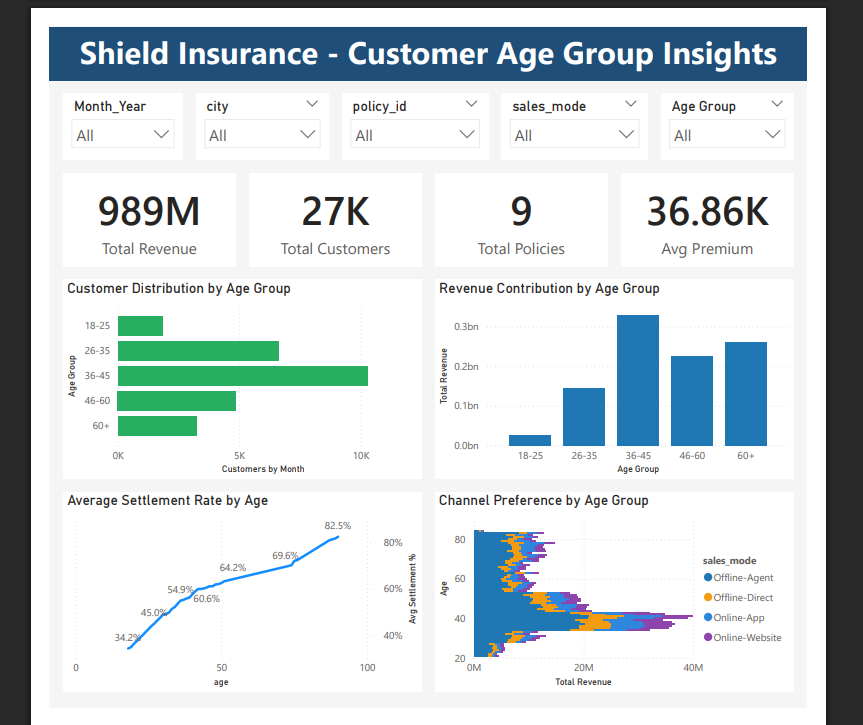

This screenshot's page, from the dashboard's own definition file:
{"tool":"powerbi","page":{"name":"Page 3","canvas":[912,820],"ordinal":2},"visuals":[{"type":"textbox","title":"Shield Insurance Business Insights Dashboard","box":[0,0,912,64],"z":0},{"type":"cardVisual","title":"Total Revenue","fields":{"Data":["fact_premiums.Total Revenue"]},"box":[16,176,208,112],"z":1000},{"type":"cardVisual","title":"Total Customers","fields":{"Data":["fact_premiums.Total Customers"]},"box":[240,176,208,112],"z":2000},{"type":"cardVisual","title":"Total Policies","fields":{"Data":["fact_premiums.Total Policies"]},"box":[464,176,208,112],"z":3000},{"type":"cardVisual","title":"Avg Premium","fields":{"Data":["fact_premiums.Avg Premium"]},"box":[1056,80,208,112],"z":4000},{"type":"lineClusteredColumnComboChart","title":"Revenue Contribution by Age Group","fields":{"Category":["dim_customer.Age Group"],"Y":["fact_premiums.Total Revenue"]},"box":[464,304,432,240],"z":5000},{"type":"clusteredBarChart","title":"Customer Distribution by Age Group","fields":{"Category":["dim_customer.Age Group"],"Y":["fact_premiums.Customers by Month"]},"box":[16,304,432,240],"z":6000},{"type":"lineChart","title":"Average Settlement Rate by Age","fields":{"Category":["fact_settlements.age"],"Y2":["fact_premiums.Avg Settlement %"]},"box":[16,560,432,240],"z":7000},{"type":"barChart","title":"Channel Preference by Age Group","fields":{"Category":["dim_customer.Age"],"Series":["fact_premiums.sales_mode"],"Y":["fact_premiums.Total Revenue"]},"box":[464,560,432,240],"z":8000},{"type":"slicer","fields":{"Values":["dim_date.Month_Year"]},"box":[16,80,208,80],"z":9000},{"type":"slicer","fields":{"Values":["dim_customer.city"]},"box":[240,80,208,80],"z":10000},{"type":"slicer","fields":{"Values":["fact_premiums.sales_mode"]},"box":[464,80,208,80],"z":11000},{"type":"slicer","fields":{"Values":["dim_customer.Age Group"]},"box":[688,80,208,80],"z":12000},{"type":"cardVisual","title":"Total Policies","fields":{"Data":["fact_premiums.Avg Premium"]},"box":[688,176,208,112],"z":13000}]}

Visuals, with their boxes on the page's 912x820 design canvas (x1, y1, x2, y2). These are canvas units, not pixel positions in the 863x725 screenshot, which may show the page scaled, cropped or inside an application window:
"Shield Insurance Business Insights Dashboard" textbox: <bbox>0, 0, 912, 64</bbox>
"Total Revenue" cardVisual: <bbox>16, 176, 224, 288</bbox>
"Total Customers" cardVisual: <bbox>240, 176, 448, 288</bbox>
"Total Policies" cardVisual: <bbox>464, 176, 672, 288</bbox>
"Avg Premium" cardVisual: <bbox>1056, 80, 1264, 192</bbox>
"Revenue Contribution by Age Group" lineClusteredColumnComboChart: <bbox>464, 304, 896, 544</bbox>
"Customer Distribution by Age Group" clusteredBarChart: <bbox>16, 304, 448, 544</bbox>
"Average Settlement Rate by Age" lineChart: <bbox>16, 560, 448, 800</bbox>
"Channel Preference by Age Group" barChart: <bbox>464, 560, 896, 800</bbox>
slicer - dim_date.Month_Year: <bbox>16, 80, 224, 160</bbox>
slicer - dim_customer.city: <bbox>240, 80, 448, 160</bbox>
slicer - fact_premiums.sales_mode: <bbox>464, 80, 672, 160</bbox>
slicer - dim_customer.Age Group: <bbox>688, 80, 896, 160</bbox>
"Total Policies" cardVisual: <bbox>688, 176, 896, 288</bbox>
